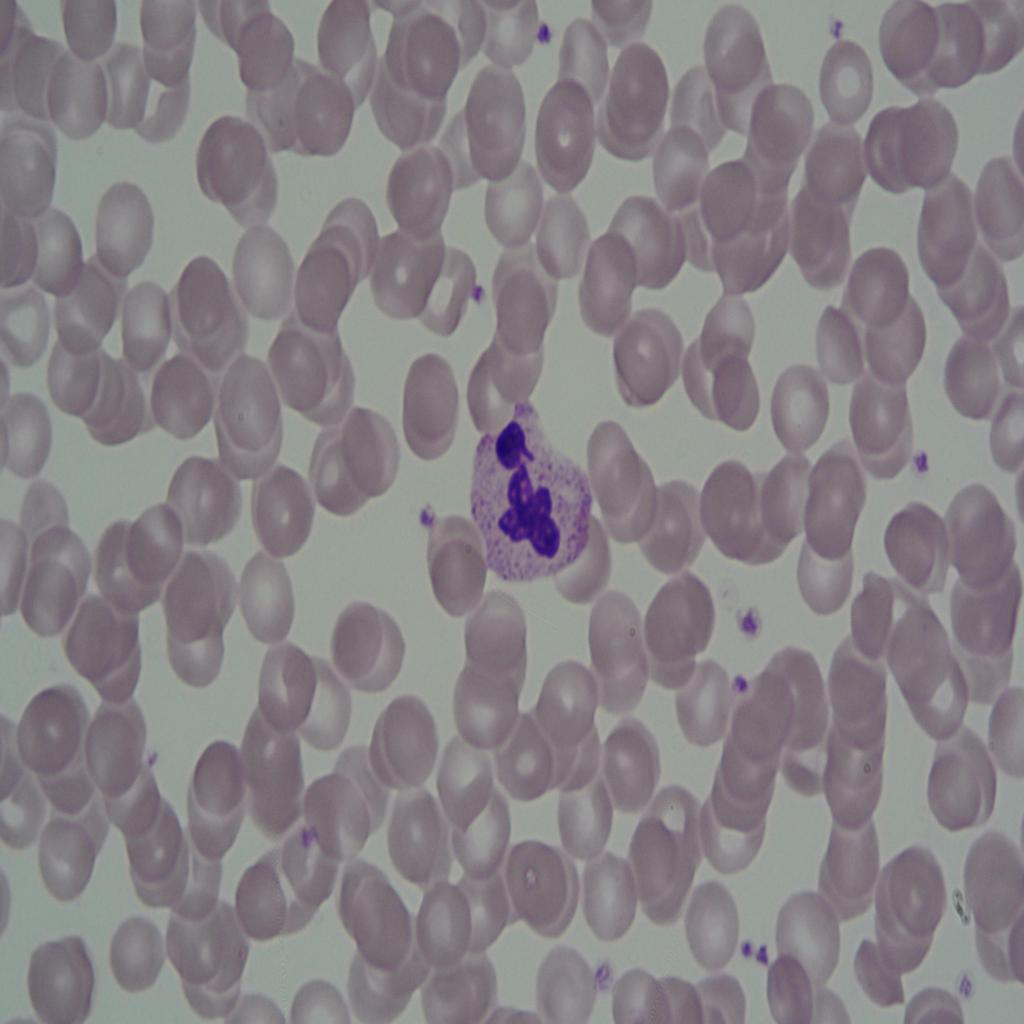Neutrofil: (468, 408, 592, 592)
Platelet: (525, 16, 565, 56), (464, 262, 489, 319), (822, 8, 850, 52), (904, 444, 930, 482), (740, 594, 761, 638), (952, 960, 977, 996), (732, 670, 754, 709), (734, 924, 758, 959), (414, 496, 433, 527), (758, 935, 770, 965)
